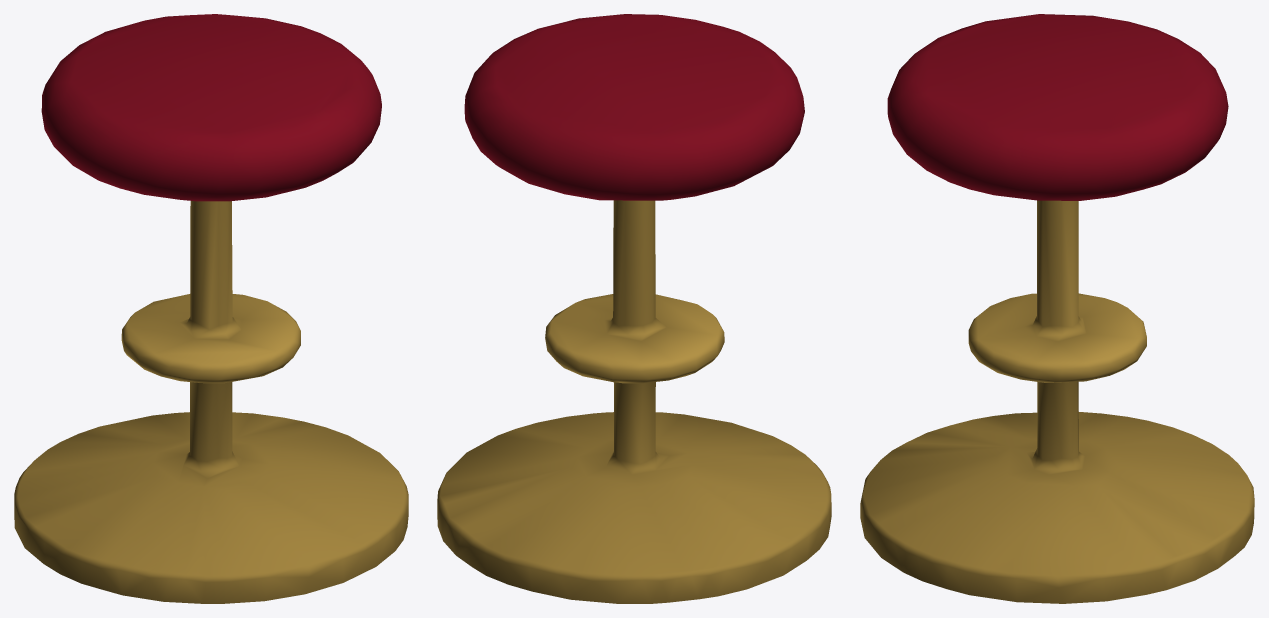
File: lumiere-bar-stool.glb
3 views of the same model, side by side, from view 1: azimuth 30°, elevation 25°; view 2: azimuth 150°, elevation 25°; view 3: azimuth 270°, elevation 25° (orthographic).
Parts seen in each view (by area): view 1: lumiere-bar-stool_LOD0; view 2: lumiere-bar-stool_LOD0; view 3: lumiere-bar-stool_LOD0.
Boxes of the visible parts, bbox=[...] form: lumiere-bar-stool_LOD0: bbox=[14, 14, 408, 603]; lumiere-bar-stool_LOD0: bbox=[437, 14, 831, 603]; lumiere-bar-stool_LOD0: bbox=[860, 14, 1254, 603].
Size of what is drawn, in the model's own units: 0.4154 by 0.5196 by 0.4154.
